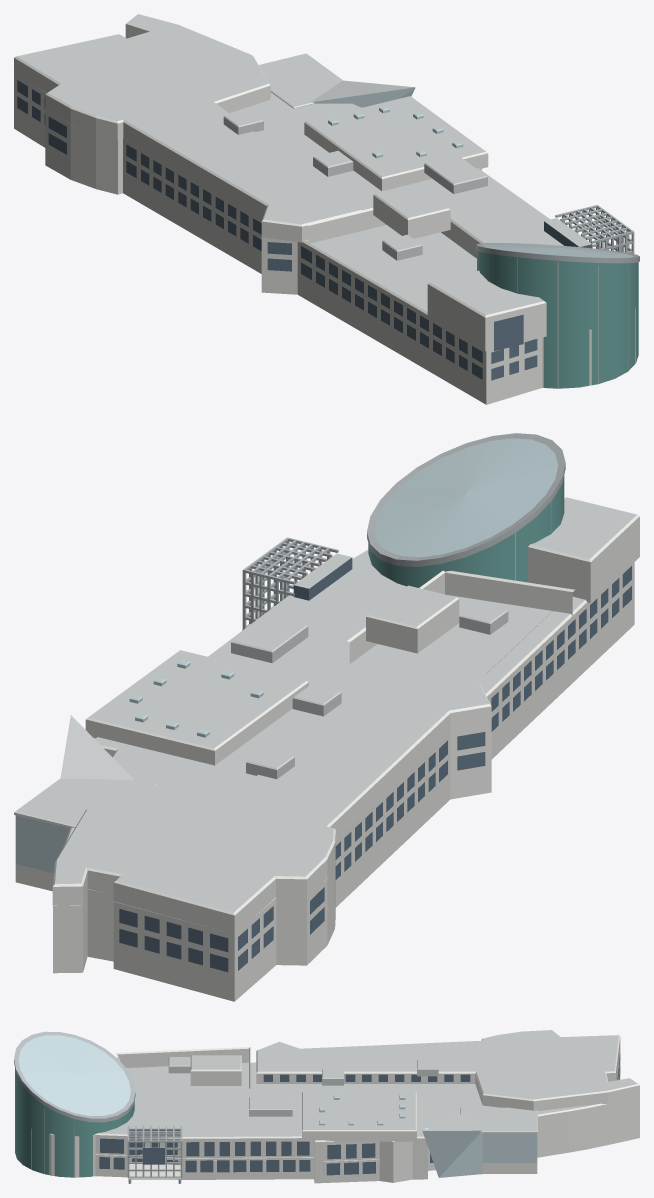
Rendered from nola-aquarium-of-the-americas.glb.
3 views of the same model, one above another, from view 1: azimuth 30°, elevation 25°; view 2: azimuth 150°, elevation 25°; view 3: azimuth 270°, elevation 25° (orthographic). The views are drawn at different scales.
Visible parts, largest first — view 1: Audubon Aquarium of the Americas; view 2: Audubon Aquarium of the Americas; view 3: Audubon Aquarium of the Americas.
Part boxes in pixels (x1,y1,x2,y2): Audubon Aquarium of the Americas: (14, 14, 639, 404); Audubon Aquarium of the Americas: (14, 433, 639, 1001); Audubon Aquarium of the Americas: (14, 1030, 639, 1183).
Bounding box in the file's own units: 71.2 × 30.08 × 171.
